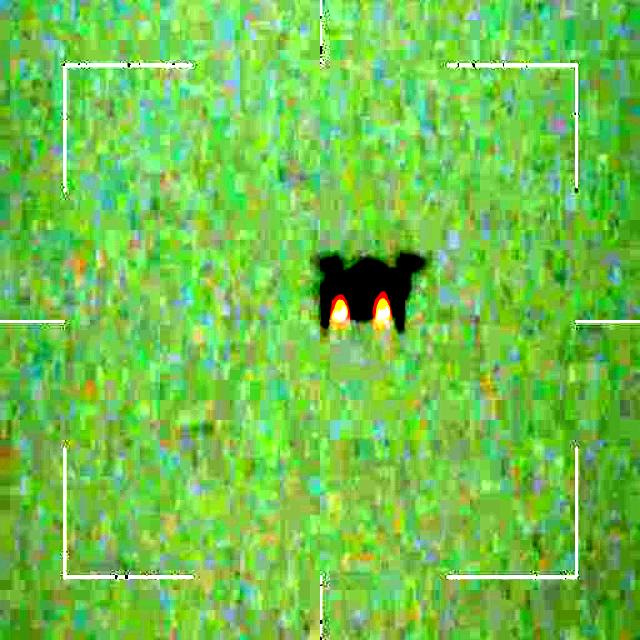bird: (316, 248, 425, 330)
